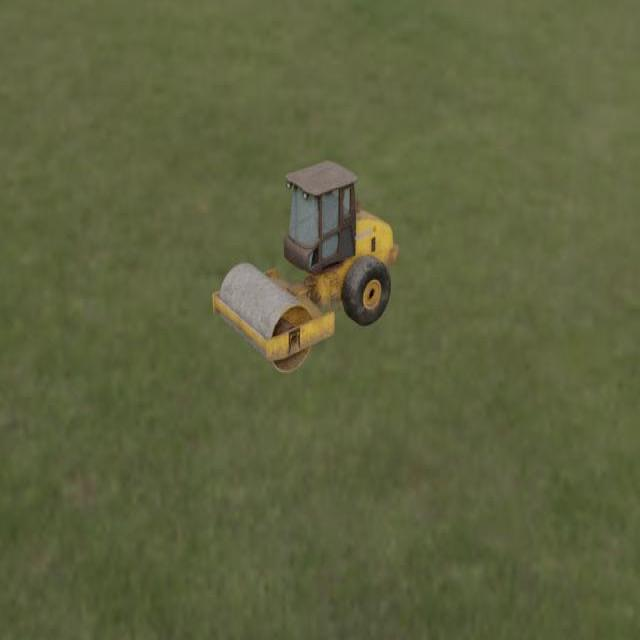Roller: (212, 160, 399, 372)
